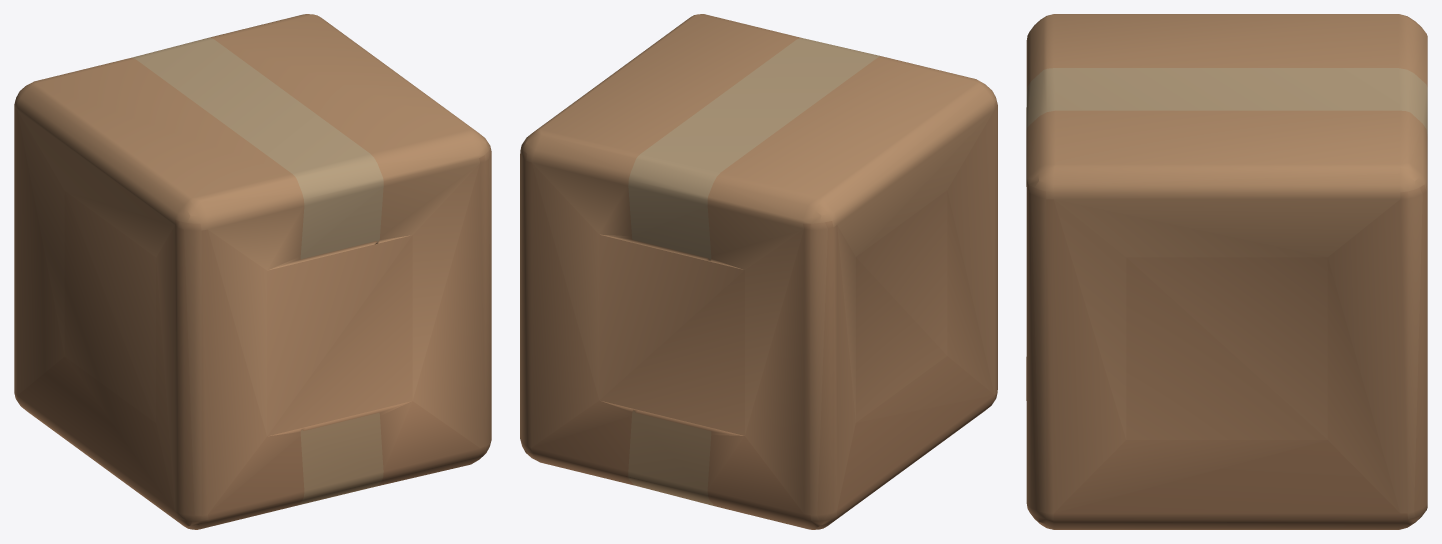
File: prop_crate_02.glb
3 renders of one model, left to right at view 1: azimuth 30°, elevation 25°; view 2: azimuth 150°, elevation 25°; view 3: azimuth 270°, elevation 25°, orthographic. The views are drawn at different scales.
Parts seen in each view (by area): view 1: prop_crate_02; view 2: prop_crate_02; view 3: prop_crate_02.
Boxes of the visible parts, x1,y1,x2,y2 form: prop_crate_02: [14, 14, 491, 529]; prop_crate_02: [520, 14, 997, 529]; prop_crate_02: [1026, 14, 1427, 529].
Size of the model in its own units: 0.2475 by 0.25 by 0.2491.
